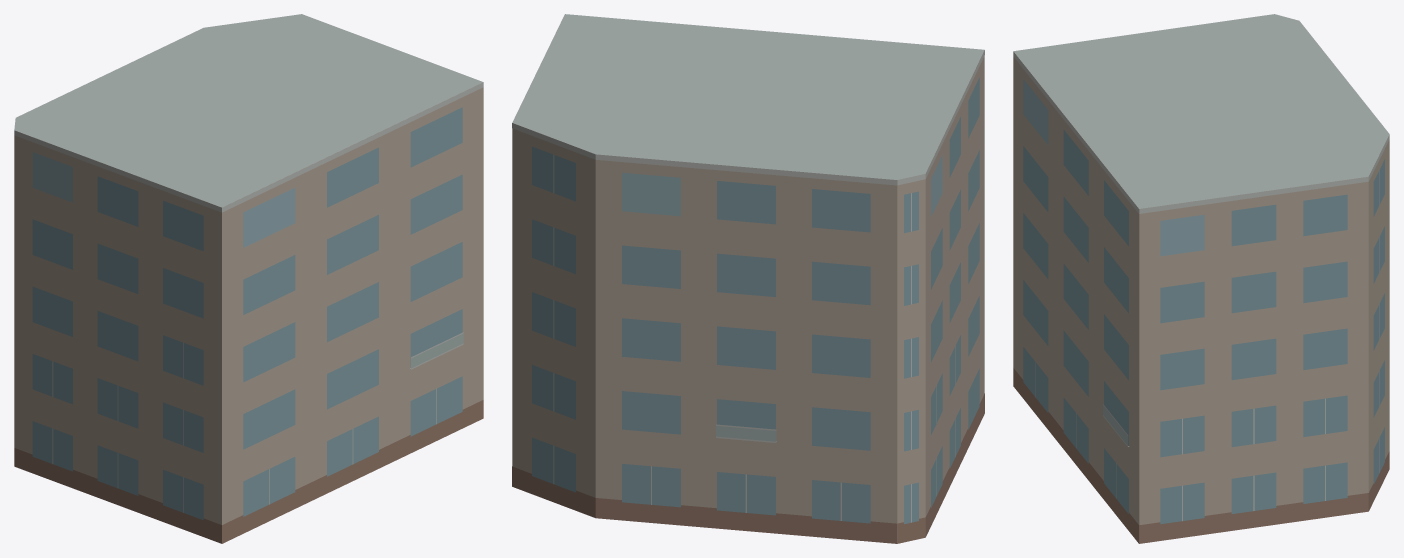
File: survey-upis-32487865.glb
3 views of the same model, side by side, from view 1: azimuth 30°, elevation 25°; view 2: azimuth 150°, elevation 25°; view 3: azimuth 270°, elevation 25° (orthographic). The views are drawn at different scales.
Visible parts, largest first — view 1: survey-upis-32487865.tmp; view 2: survey-upis-32487865.tmp; view 3: survey-upis-32487865.tmp.
Boxes of the visible parts, left/top/right/bottom form: survey-upis-32487865.tmp: left=14, top=14, right=483, bottom=543; survey-upis-32487865.tmp: left=512, top=14, right=984, bottom=543; survey-upis-32487865.tmp: left=1013, top=14, right=1389, bottom=543.
Size of the model in its own units: 20.57 by 16.46 by 16.78.
